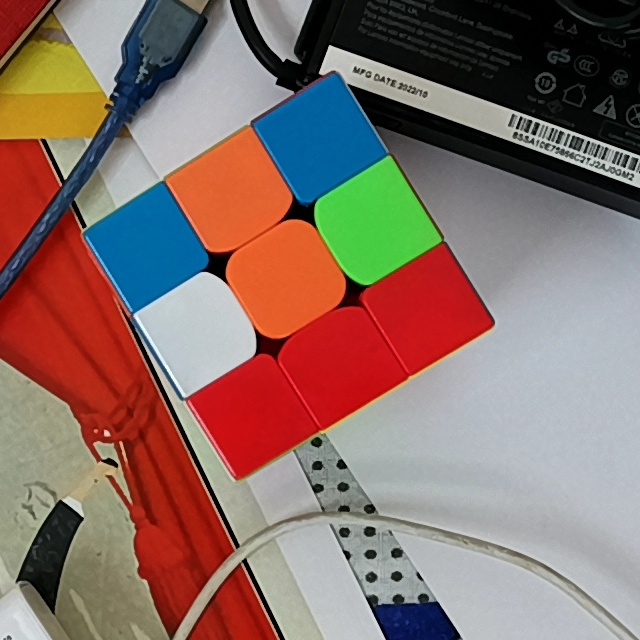tile: (248, 243, 325, 311), (337, 191, 412, 257), (306, 327, 377, 394), (162, 298, 234, 364), (217, 382, 286, 450), (397, 273, 466, 340), (287, 105, 358, 170), (109, 216, 181, 278), (201, 160, 269, 224)
